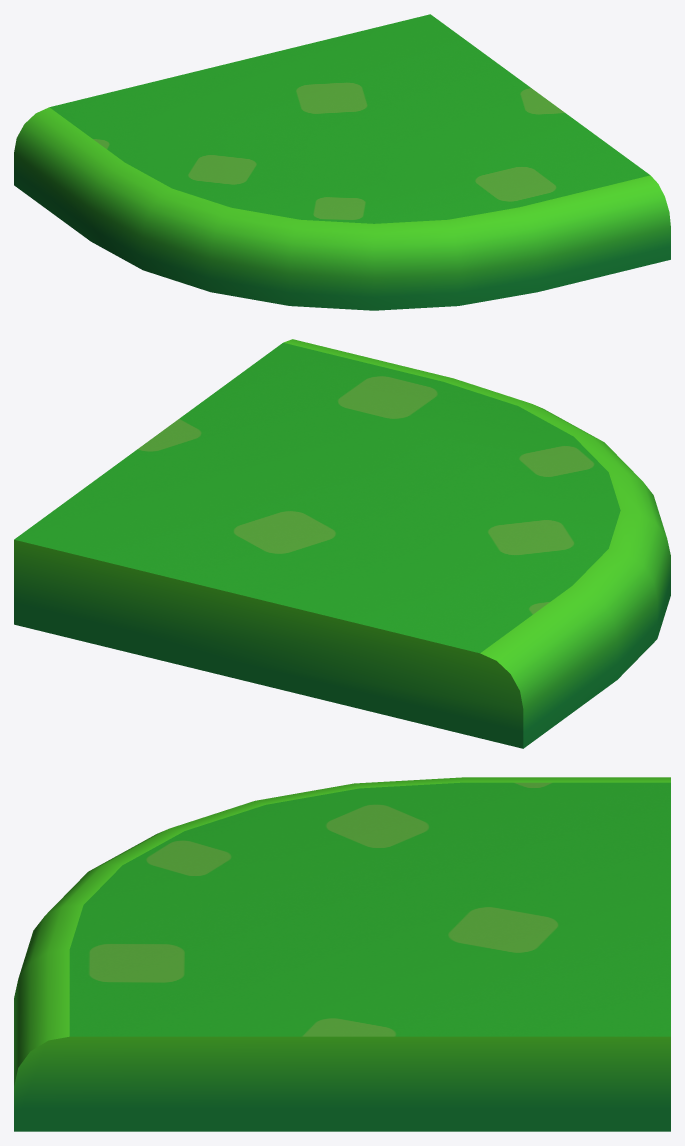
Rendered from GrassFloor_Corner_1.glb.
The picture shows the model from 3 angles, top to bottom: view 1: azimuth 30°, elevation 25°; view 2: azimuth 150°, elevation 25°; view 3: azimuth 270°, elevation 25°; orthographic projection. The views are drawn at different scales.
Parts seen in each view (by area): view 1: GrassFloor_Corner_1; view 2: GrassFloor_Corner_1; view 3: GrassFloor_Corner_1.
Boxes of the visible parts, x1,y1,x2,y2 form: GrassFloor_Corner_1: (14, 14, 670, 310); GrassFloor_Corner_1: (14, 339, 670, 748); GrassFloor_Corner_1: (14, 777, 670, 1131).
Bounding box in the file's own units: 2 × 0.3187 × 2.
Materials: 2 (2 with a texture image).
